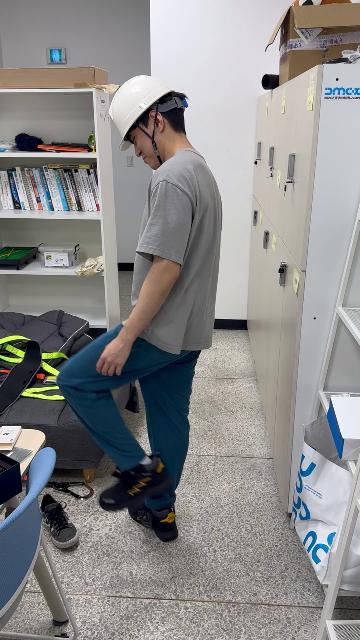helmet_worn: (108, 75, 175, 151)
shoe_not_worn: (39, 494, 79, 549)
shoe_worn: (98, 453, 172, 513), (129, 500, 179, 542)
vest_not_worn: (128, 166, 221, 354)
